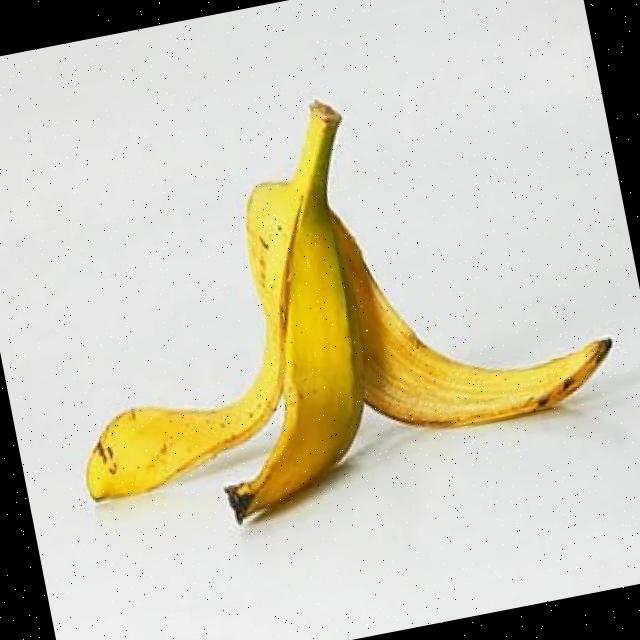banana-peel: (21, 51, 634, 554)
